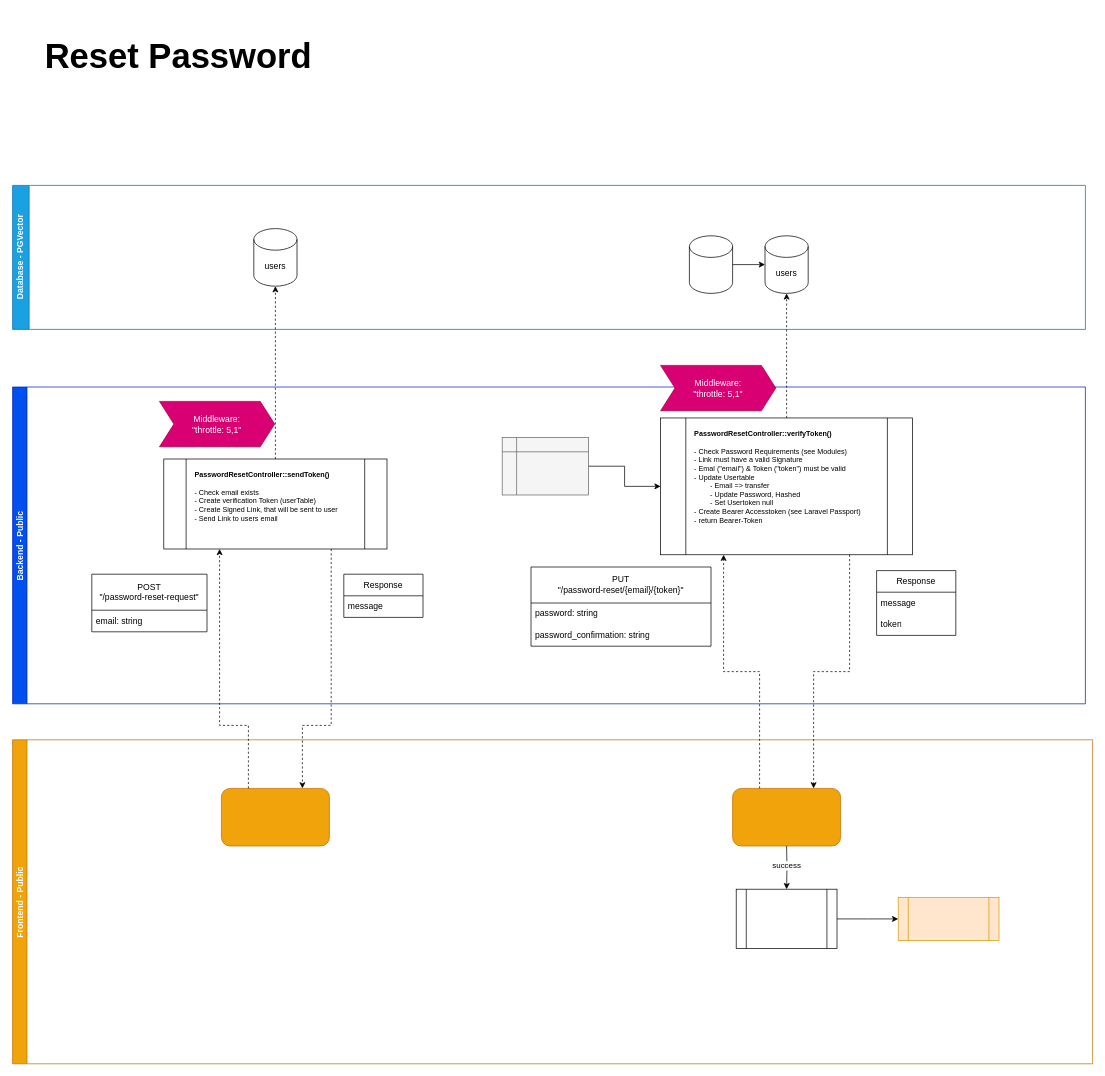
Some shapes in this 1105 by 1076 pixel diagram are drawn without their labels. Each missing label, with the centre of its shape:
Modules: - Password: point (545, 466)
OATUH: point (711, 264)
PasswortReset: point (786, 817)
Redirect to Landingpage: point (948, 919)
ResetPasswordRequest: point (275, 817)
Set Bearer in Local Storage (Client) & Set User Session Headers: point (786, 918)
